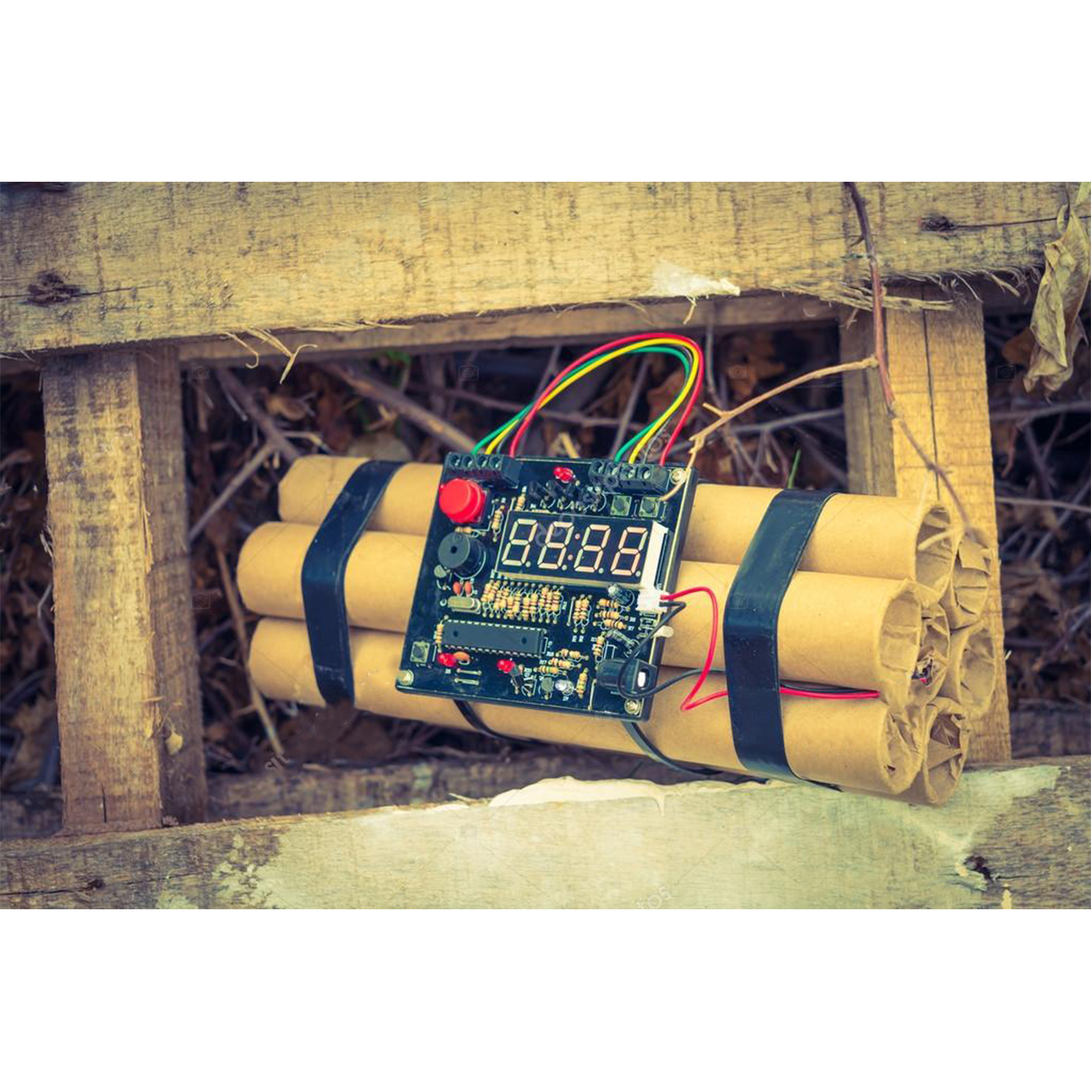mine: (501, 337, 708, 465), (991, 406, 1091, 508)
